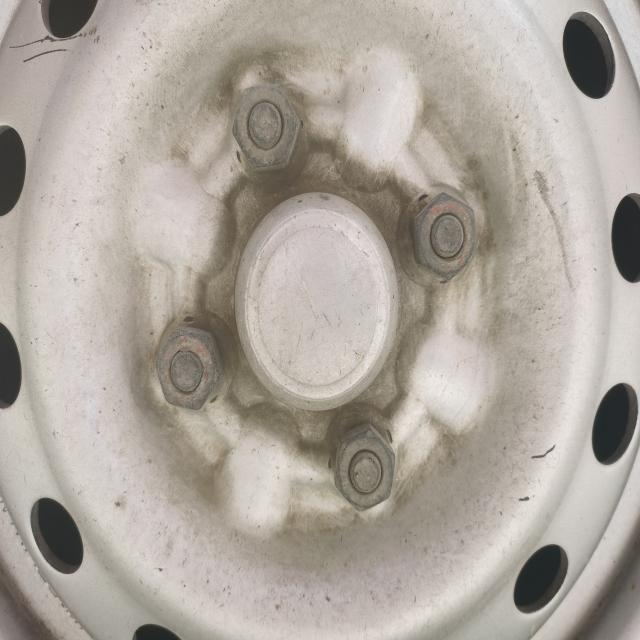bolt nut: (231, 81, 302, 176), (408, 190, 477, 286), (154, 325, 224, 413), (333, 422, 396, 513)
